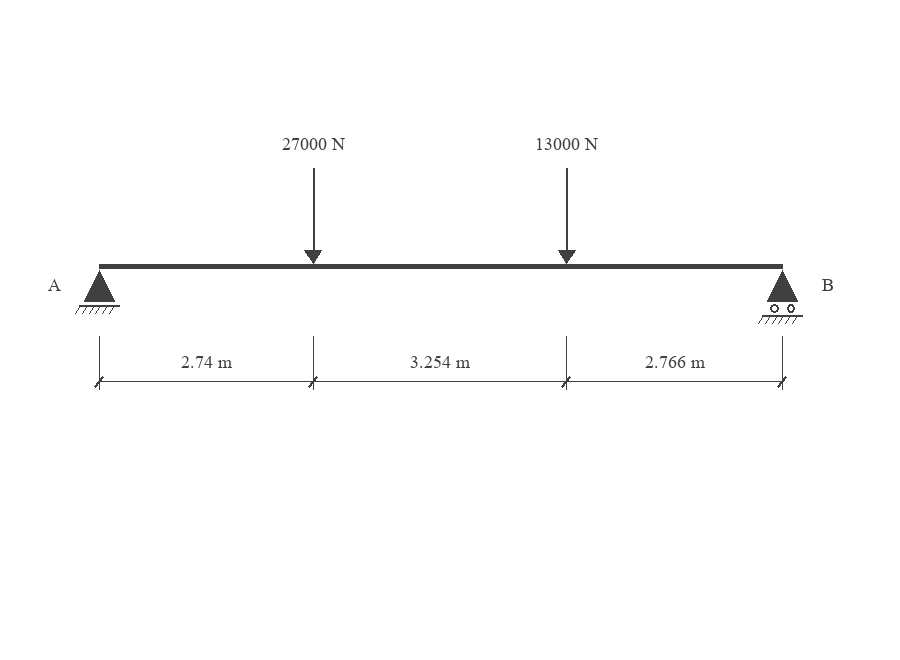pin_support: (75, 270, 120, 314)
point_load: (304, 168, 322, 264), (558, 168, 576, 264)
roller_support: (758, 270, 803, 324)
